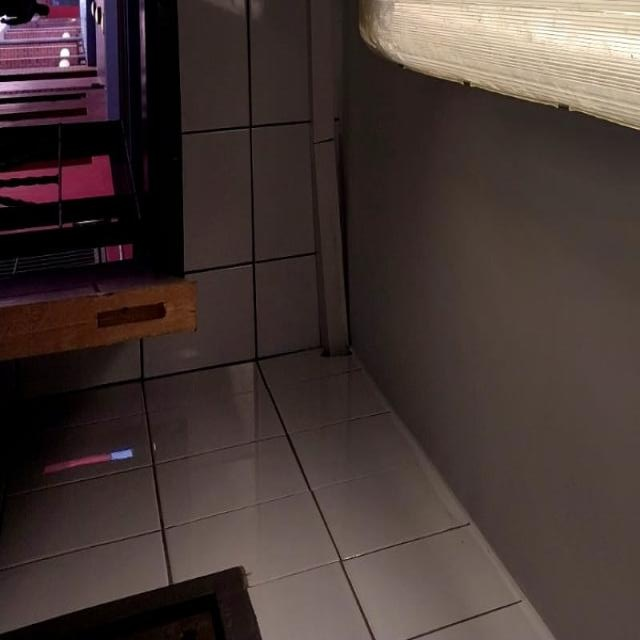fluorescent tube: (300, 0, 640, 261)
